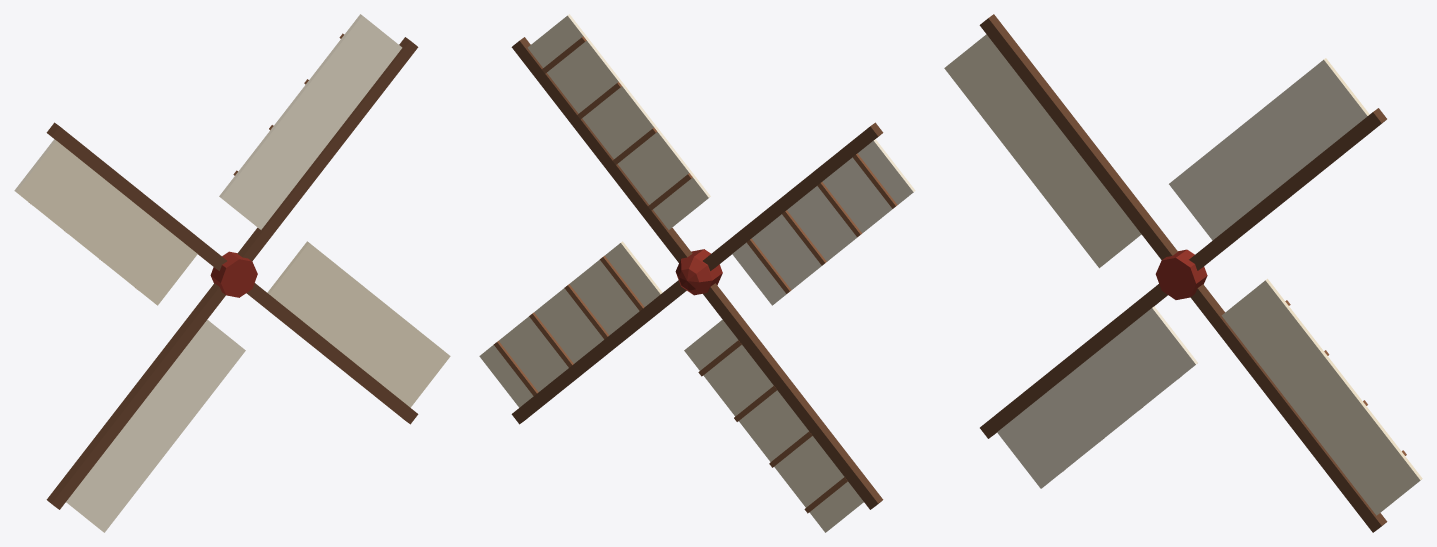
The model's file is SM_Windmill_Blades.fbx.
3 renders of one model, left to right at view 1: azimuth 30°, elevation 25°; view 2: azimuth 150°, elevation 25°; view 3: azimuth 330°, elevation 25°, orthographic. The views are drawn at different scales.
Parts seen in each view (by area): view 1: SM_Windmill_Blades; view 2: SM_Windmill_Blades; view 3: SM_Windmill_Blades.
Boxes of the visible parts, box(x1,y1,x2,y2) form: SM_Windmill_Blades: box(14, 14, 450, 532); SM_Windmill_Blades: box(479, 14, 915, 532); SM_Windmill_Blades: box(944, 14, 1422, 532).
Size of the model in its own units: 14.55 by 14.55 by 1.
